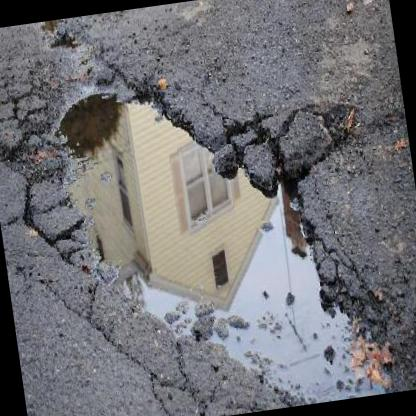pothole: (0, 33, 395, 416)
